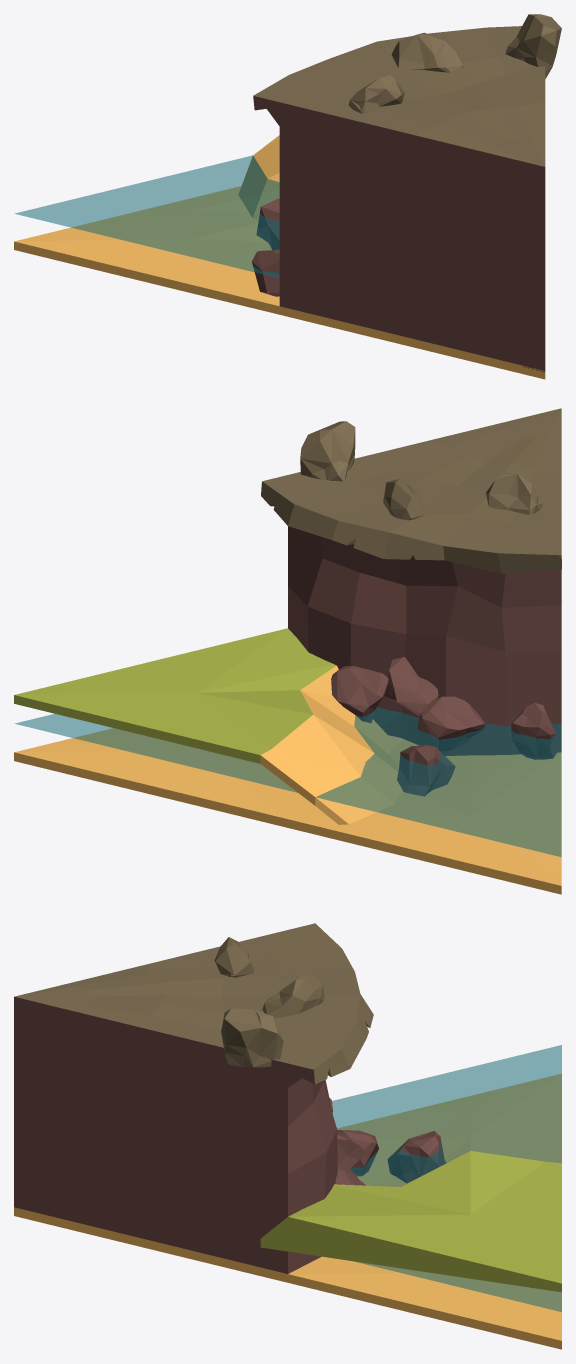
Rendered from tile9.glb.
3 renders of one model, top to bottom at view 1: azimuth 30°, elevation 25°; view 2: azimuth 150°, elevation 25°; view 3: azimuth 270°, elevation 25°, orthographic. The views are drawn at different scales.
Parts seen in each view (by area): view 1: hill8.001, sand7.003, water4.002, ground.005, bush2.004, bush1.004, bush3.004, rock1.002, rock4.002; view 2: hill8.001, sand7.003, ground.005, water4.002, bush2.004, rock3.002, rock5.002, rock4.002, rock1.002, rock0.014, bush3.004, bush1.004; view 3: hill8.001, ground.005, sand7.003, water4.002, bush2.004, rock4.002, bush1.004, bush3.004, rock3.002, rock0.014.
Boxes of the visible parts, x1,y1,x2,y2 form: hill8.001: (253,26,545,372); sand7.003: (14,186,545,379); water4.002: (15,155,279,277); ground.005: (238,135,279,219); bush2.004: (505,14,561,78); bush1.004: (391,32,463,72); bush3.004: (348,74,405,113); rock1.002: (252,249,279,296); rock4.002: (256,198,279,249); hill8.001: (261,408,561,755); sand7.003: (14,728,561,894); ground.005: (14,628,402,824); water4.002: (15,707,561,856); bush2.004: (300,421,355,481); rock3.002: (417,696,485,751); rock5.002: (331,666,388,722); rock4.002: (397,745,455,796); rock1.002: (511,702,558,759); rock0.014: (384,657,438,716); bush3.004: (486,473,542,514); bush1.004: (383,479,429,520); hill8.001: (14,923,373,1273); ground.005: (260,1151,561,1292); sand7.003: (14,1073,561,1349); water4.002: (332,1045,561,1311); bush2.004: (221,1008,283,1067); rock4.002: (387,1130,446,1183); bush1.004: (262,975,324,1018); bush3.004: (214,937,253,977); rock3.002: (337,1130,378,1176); rock0.014: (337,1134,366,1168).
Bounding box in the file's own units: 1 × 0.5012 × 0.866.
